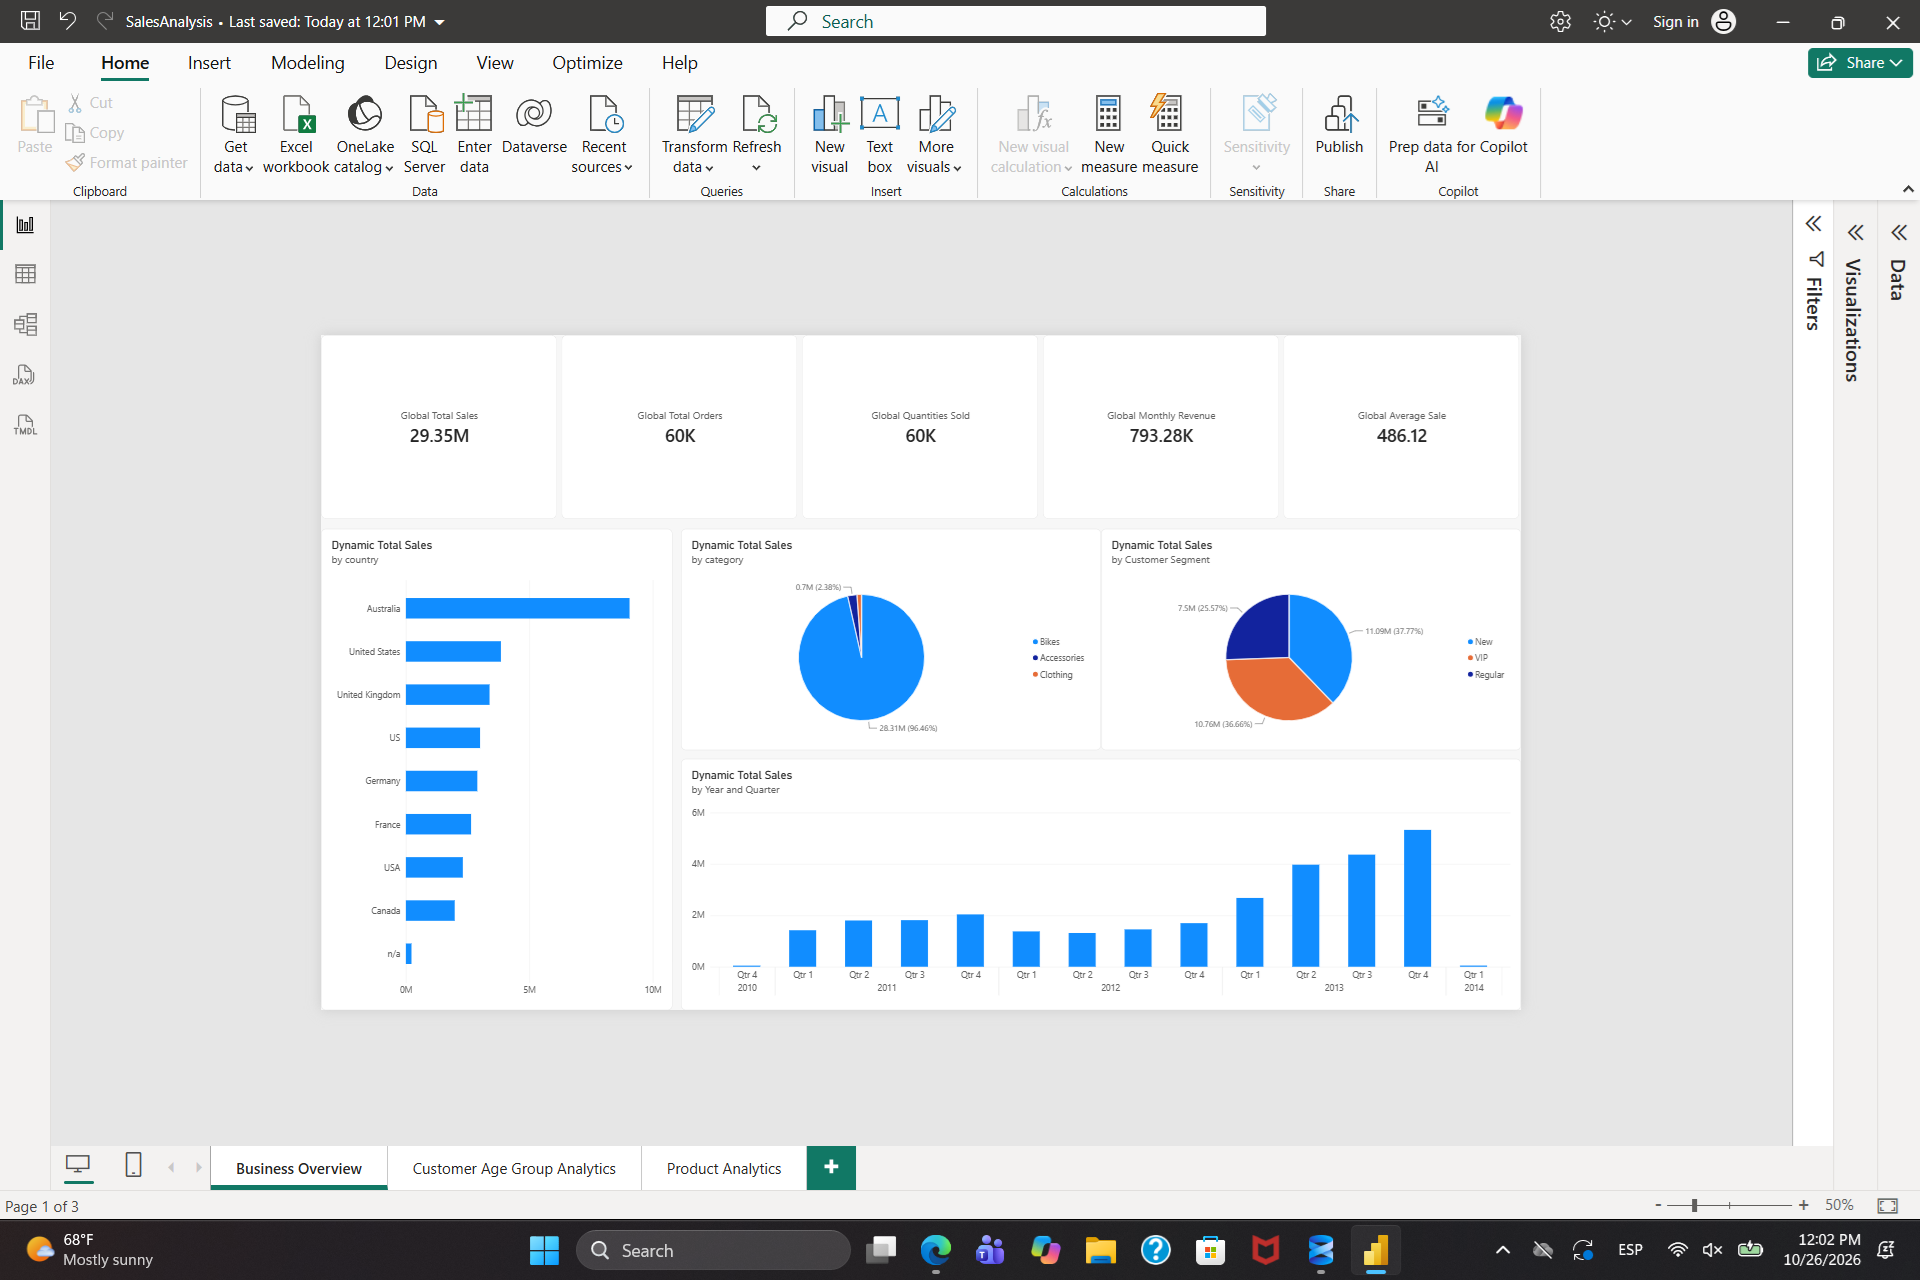

This screenshot's page, from the dashboard's own definition file:
{"tool":"powerbi","page":{"name":"Business Overview","canvas":[1920,1080],"ordinal":0},"visuals":[{"type":"clusteredColumnChart","fields":{"Category":["gold fact_sales.order_date.Variation.Date Hierarchy.Year","gold fact_sales.order_date.Variation.Date Hierarchy.Quarter"],"Y":["gold fact_sales.Dynamic Total Sales"]},"box":[576,678,1344,402],"z":0},{"type":"cardVisual","fields":{"Data":["gold fact_sales.Global Total Sales","gold fact_sales.Global Total Orders","gold fact_sales.Global Quantities Sold","gold fact_sales.Global Monthly Revenue","gold fact_sales.Global Average Sale"]},"box":[0,0,1920,294],"z":1000},{"type":"pieChart","fields":{"Category":["gold dim_customers.Customer Segment"],"Y":["gold fact_sales.Dynamic Total Sales"]},"box":[1248,310,672,354],"z":2000},{"type":"pieChart","fields":{"Category":["gold dim_products.category"],"Y":["gold fact_sales.Dynamic Total Sales"]},"box":[576,310,672,354],"z":3000},{"type":"clusteredBarChart","fields":{"Category":["gold dim_customers.country"],"Y":["gold fact_sales.Dynamic Total Sales"]},"box":[0,310,562,770],"z":3001}]}

Visuals, with their boxes on the page's 1920x1080 design canvas (x1, y1, x2, y2). These are canvas units, not pixel positions in the 1920x1280 screenshot, which may show the page scaled, cropped or inside an application window:
clusteredColumnChart - gold fact_sales.order_date.Variation.Date Hierarchy.Year x gold fact_sales.order_date.Variation.Date Hierarchy.Quarter: (x1=576, y1=678, x2=1920, y2=1080)
cardVisual - gold fact_sales.Global Total Sales x gold fact_sales.Global Total Orders: (x1=0, y1=0, x2=1920, y2=294)
pieChart - gold dim_customers.Customer Segment x gold fact_sales.Dynamic Total Sales: (x1=1248, y1=310, x2=1920, y2=664)
pieChart - gold dim_products.category x gold fact_sales.Dynamic Total Sales: (x1=576, y1=310, x2=1248, y2=664)
clusteredBarChart - gold dim_customers.country x gold fact_sales.Dynamic Total Sales: (x1=0, y1=310, x2=562, y2=1080)
